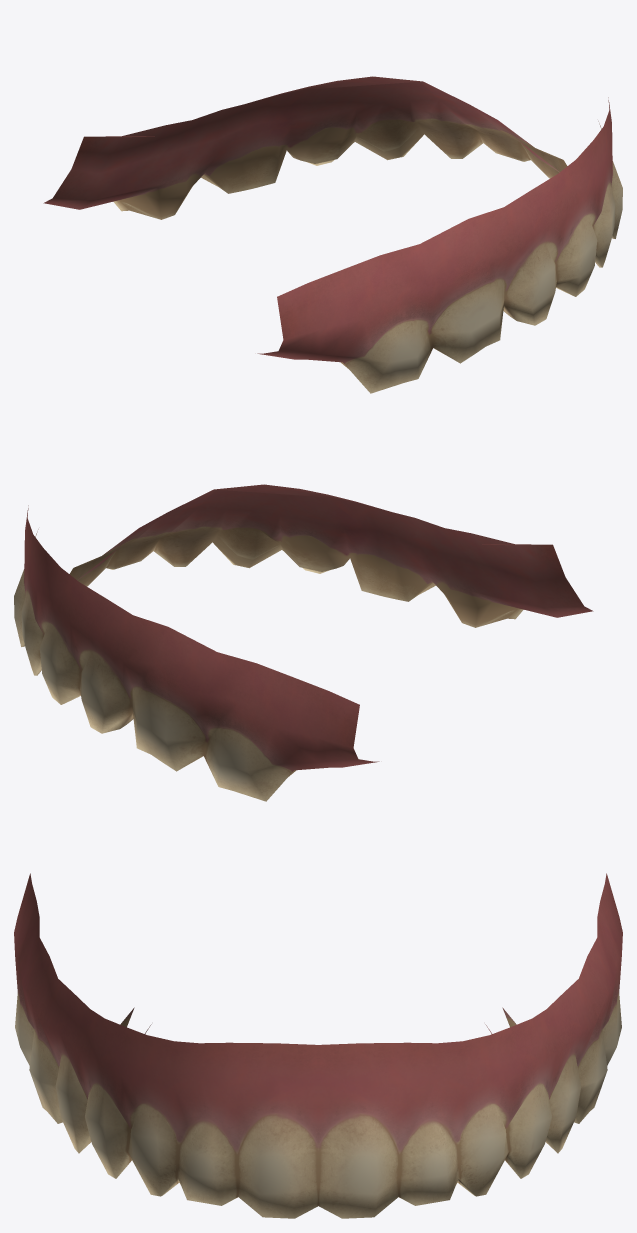
The model's file is mouth_up.glb.
3 renders of one model, top to bottom at view 1: azimuth 30°, elevation 25°; view 2: azimuth 150°, elevation 25°; view 3: azimuth 270°, elevation 25°, orthographic. The views are drawn at different scales.
Visible parts, largest first — view 1: Plane.006; view 2: Plane.006; view 3: Plane.006.
Boxes of the visible parts, x1,y1,x2,y2 form: Plane.006: (43, 76, 622, 393); Plane.006: (14, 484, 593, 801); Plane.006: (14, 873, 622, 1218).
Bounding box in the file's own units: 0.1223 × 0.0467 × 0.1275.
Materials: 1 (1 with a texture image).
